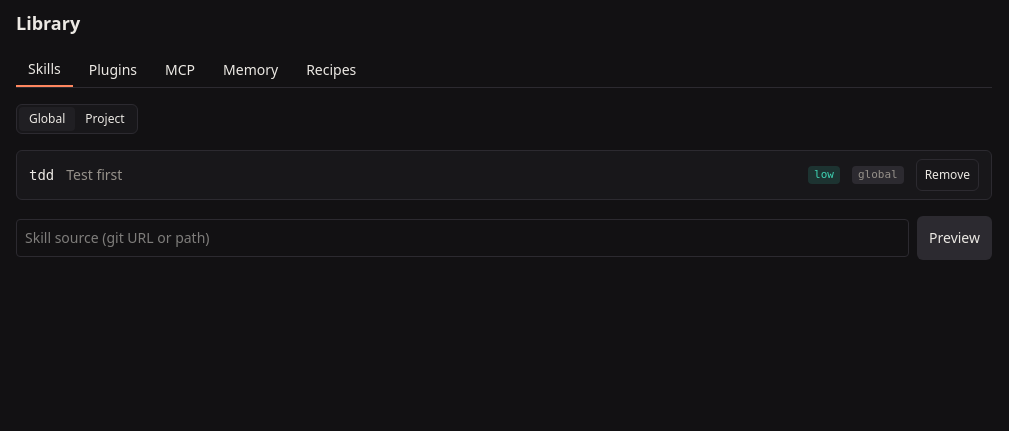
Test: Library skills › discards a preview
Expected: the element with test id "skill-row" is shown, x1=16 y1=150 x2=992 y2=200
In the field labelled "Skill source": (463, 238) x1=16 y1=219 x2=909 y2=257, type "s"
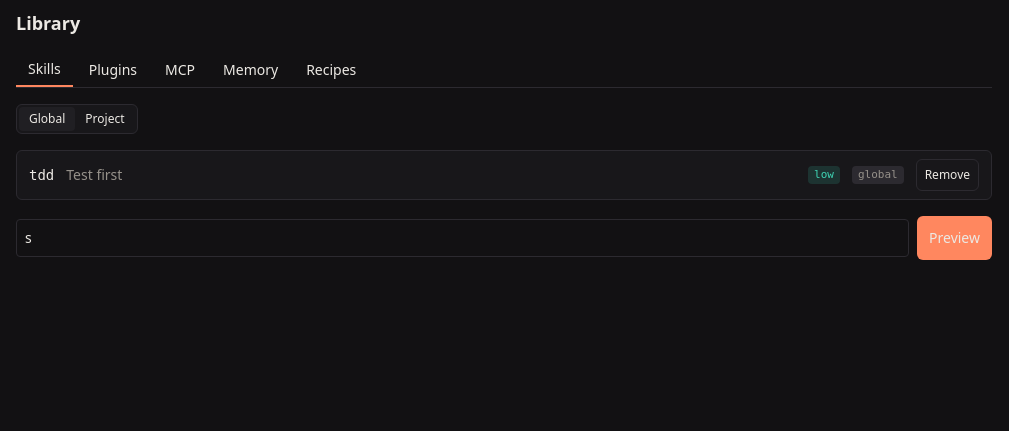
Click the button "Preview": (955, 238) x1=917 y1=216 x2=992 y2=260
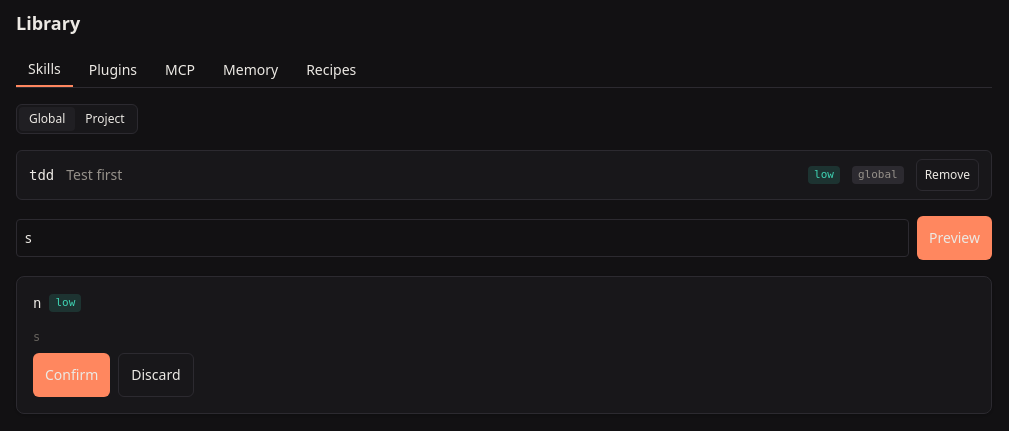
Click the button "Discard": (156, 375) x1=118 y1=353 x2=194 y2=397
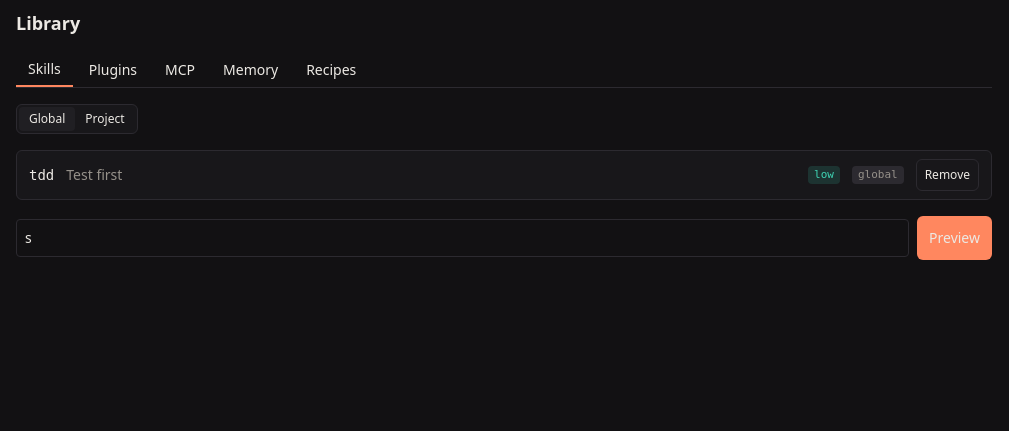
Now the element with test id "skill-preview" is gone
